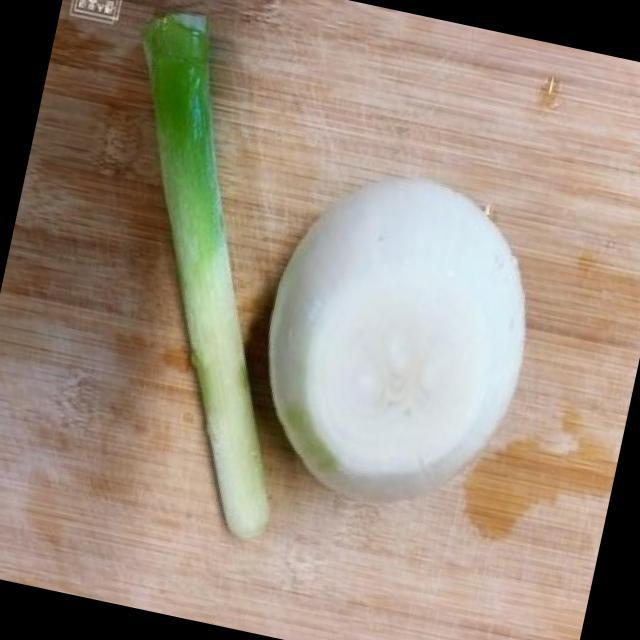Onion: (265, 183, 522, 505)
